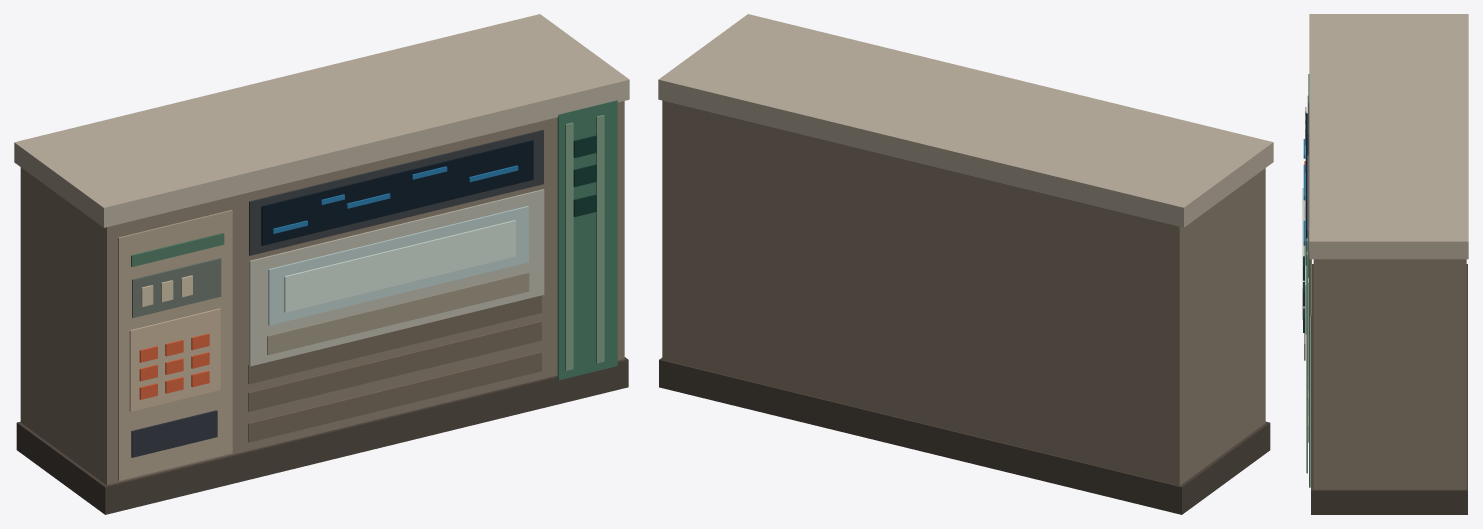
The model's file is CMU3DWideAnalyzerMachine.glb.
3 renders of one model, left to right at view 1: azimuth 30°, elevation 25°; view 2: azimuth 150°, elevation 25°; view 3: azimuth 270°, elevation 25°, orthographic. The views are drawn at different scales.
Parts seen in each view (by area): view 1: analyzer top overhang, wide analyzer cabinet, analyzer plinth, central lower drawer (×3), left column outer frame, scan chamber frame, right green column, central status glass, scan chamber inner light, pale scan chamber glass, orange button panel backing, central black status bezel (+5 smaller); view 2: wide analyzer cabinet, analyzer top overhang, analyzer plinth; view 3: analyzer top overhang, wide analyzer cabinet, analyzer plinth, right green column, column green raised rib, central status glass, scan chamber frame, central black status bezel, pale scan chamber glass.
Part boxes in pixels (x1=…): analyzer top overhang: x1=14, y1=14, x2=629, y2=227; wide analyzer cabinet: x1=20, y1=101, x2=624, y2=485; analyzer plinth: x1=16, y1=357, x2=628, y2=514; central lower drawer (×3): x1=248, y1=295, x2=541, y2=442; left column outer frame: x1=118, y1=210, x2=232, y2=480; scan chamber frame: x1=249, y1=189, x2=544, y2=366; right green column: x1=557, y1=100, x2=617, y2=380; central status glass: x1=261, y1=140, x2=533, y2=245; scan chamber inner light: x1=284, y1=220, x2=515, y2=312; pale scan chamber glass: x1=268, y1=206, x2=528, y2=325; orange button panel backing: x1=129, y1=308, x2=220, y2=411; central black status bezel: x1=249, y1=129, x2=543, y2=255; wide analyzer cabinet: x1=662, y1=100, x2=1265, y2=485; analyzer top overhang: x1=658, y1=14, x2=1273, y2=227; analyzer plinth: x1=659, y1=358, x2=1270, y2=514; analyzer top overhang: x1=1309, y1=14, x2=1468, y2=259; wide analyzer cabinet: x1=1313, y1=259, x2=1466, y2=489; analyzer plinth: x1=1311, y1=264, x2=1467, y2=514; right green column: x1=1309, y1=226, x2=1310, y2=487; column green raised rib: x1=1306, y1=251, x2=1307, y2=473; central status glass: x1=1305, y1=113, x2=1307, y2=265; scan chamber frame: x1=1307, y1=155, x2=1308, y2=375; central black status bezel: x1=1308, y1=103, x2=1309, y2=277; pale scan chamber glass: x1=1304, y1=173, x2=1306, y2=334.
Size of the model in its own units: 1.85 by 1.04 by 0.5707.
